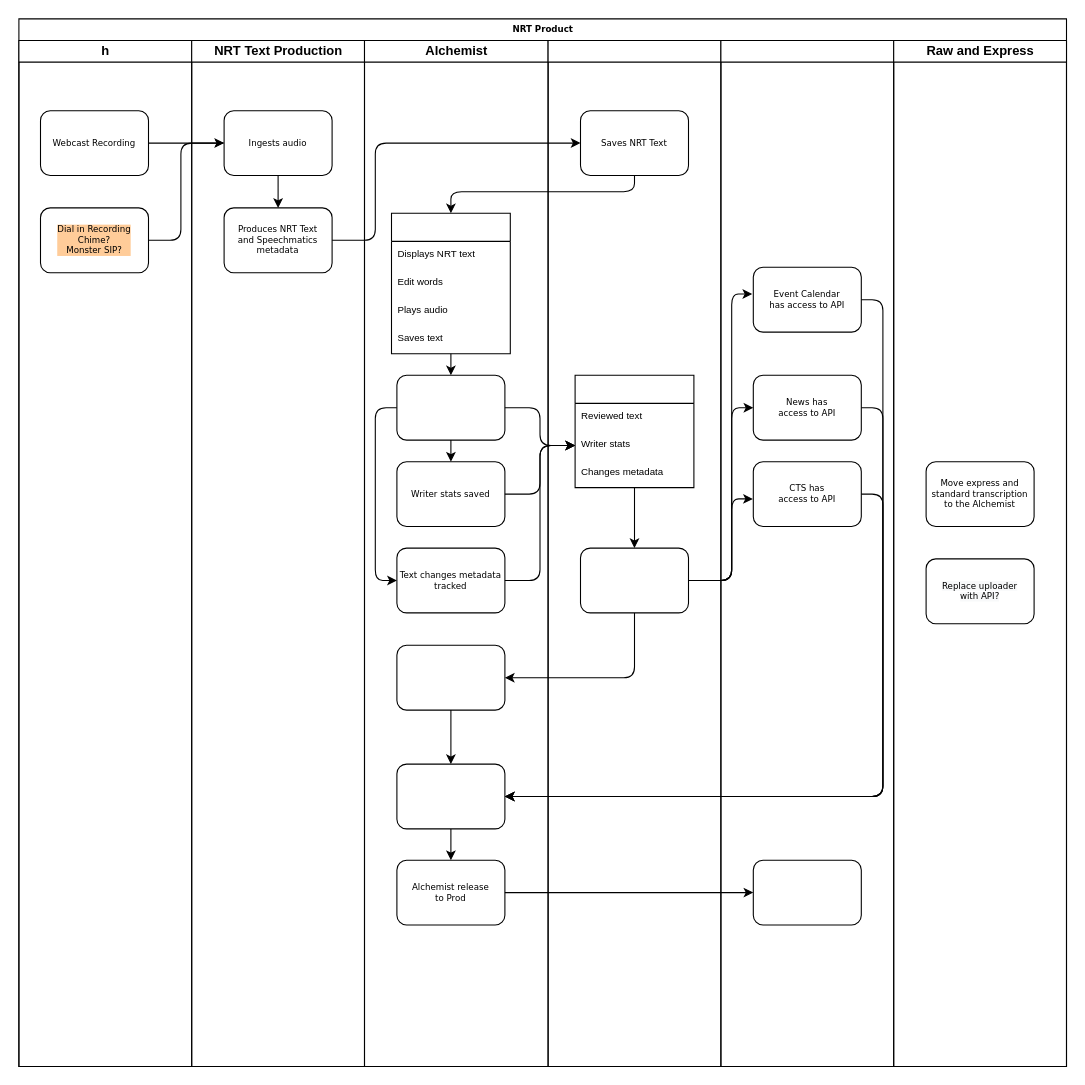
Some shapes in this 1085 by 1085 pixel diagram are drawn without their labels. Here are the shapes that lost their labels. From the top down, the box of each, then its label:
(390, 212, 510, 354): Needed Functions
(396, 374, 505, 440): Writer reviews NRT text
(574, 374, 694, 488): Required data
(547, 39, 721, 1066): Database and API
(720, 39, 894, 1066): MVP
(579, 547, 688, 613): API consumer ready
(396, 644, 505, 710): Tools for operations group to assign and remove writers
(396, 763, 505, 829): NRT Web API release to Prod
(752, 859, 861, 925): NRT Product to external clients
